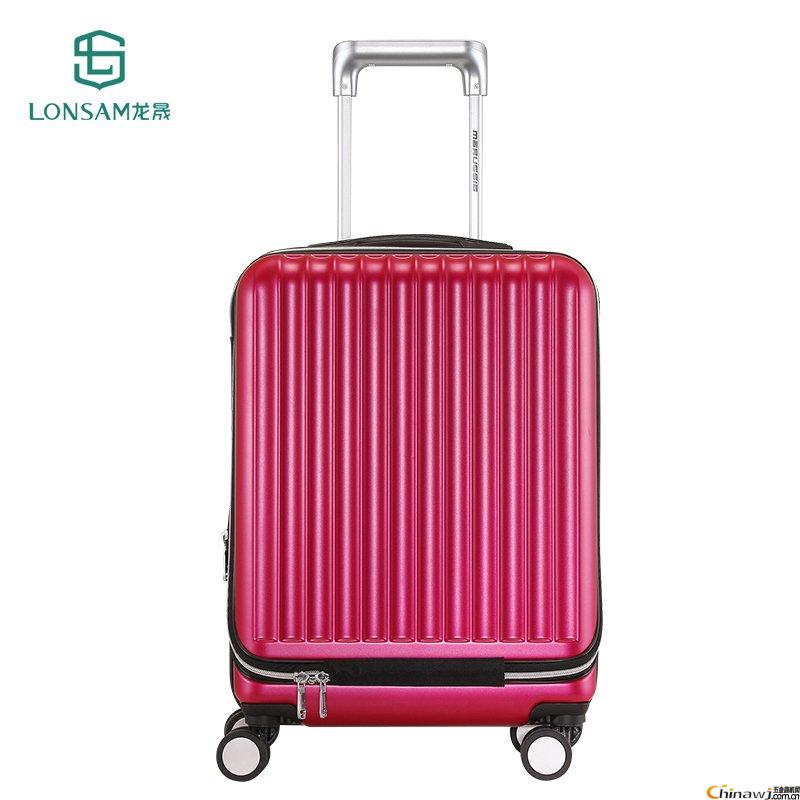luggage: (214, 40, 606, 783)
